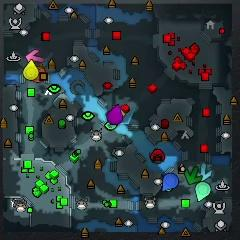p1: (163, 173, 178, 191)
p2: (195, 182, 211, 202)
p3: (107, 105, 123, 124)
p4: (24, 58, 37, 80)
p5: (32, 67, 45, 83)
x1: (27, 49, 43, 62)
x2: (112, 104, 125, 116)
x3: (196, 163, 211, 181)
x4: (184, 166, 202, 183)
